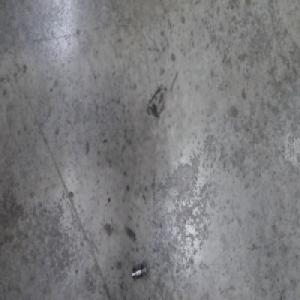Bolt: (131, 262, 147, 282)
